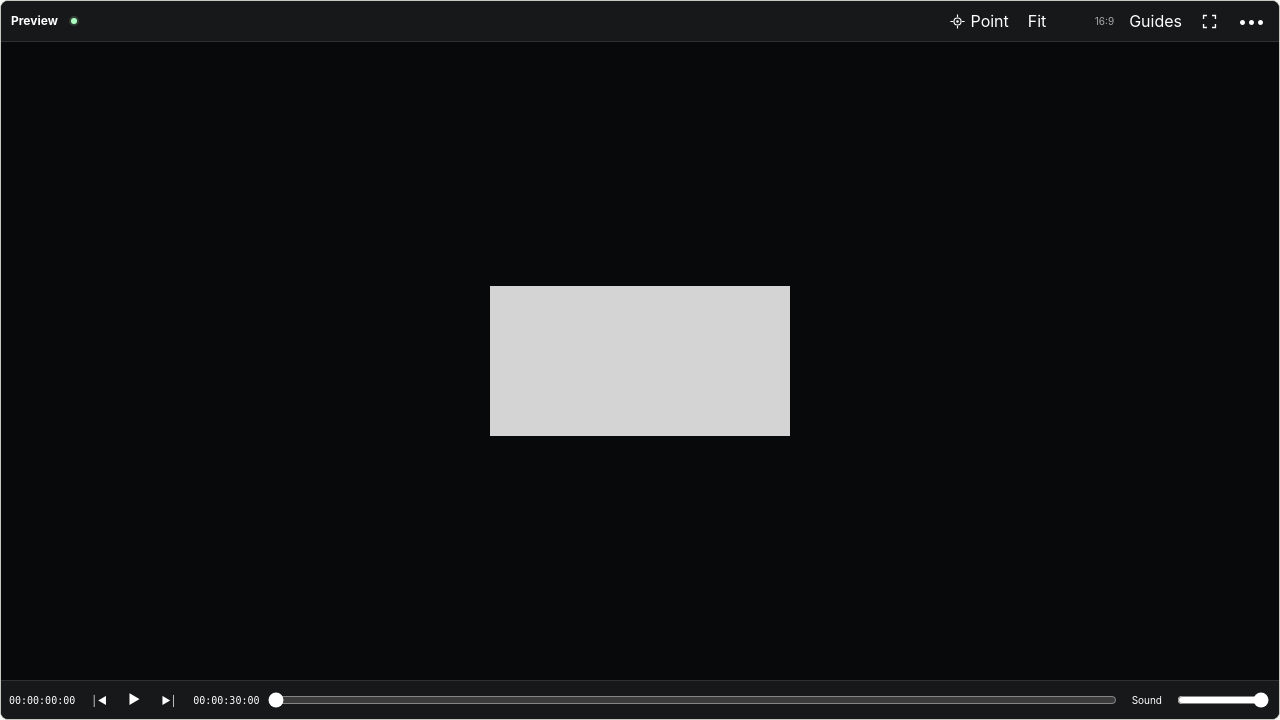
Test: SanverseEditorMonitor › uses a bounded fullscreen fallback when the browser API is unavailable
Click the button named "Enter fullscreen": [1210, 21] box [1193, 5, 1227, 37]
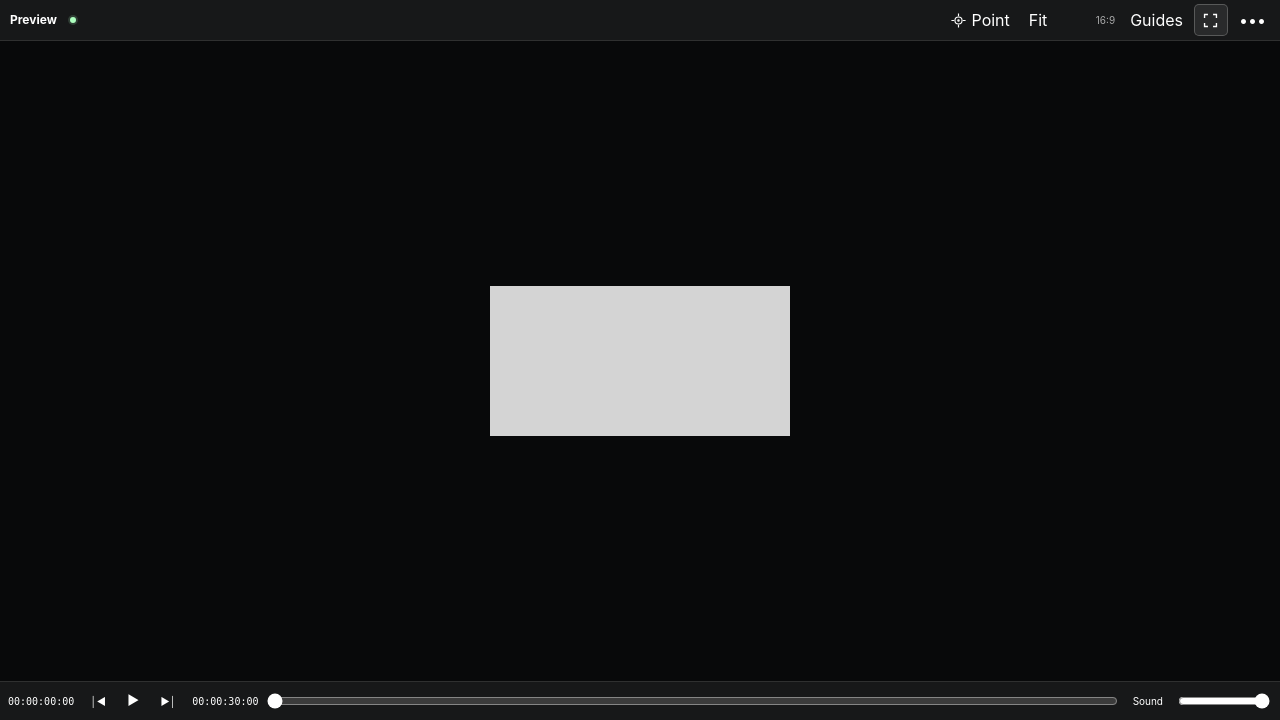
Expected: the button named "Exit fullscreen" is shown, [1194, 4, 1228, 36]
